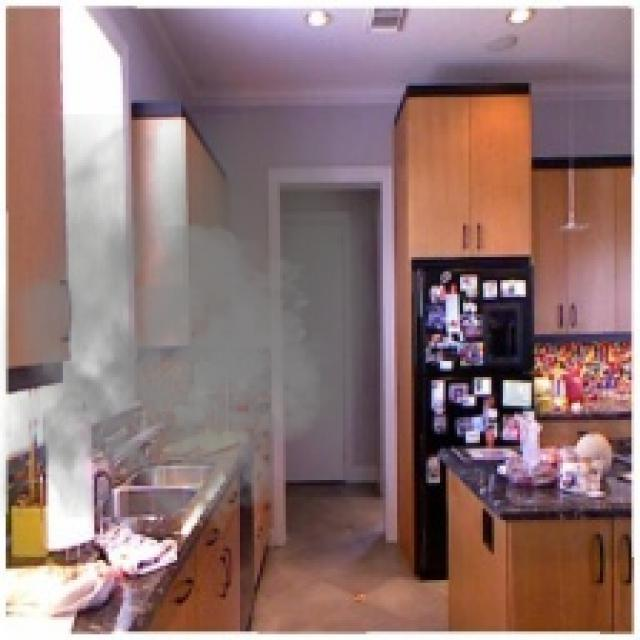Smoke: (0, 114, 383, 532)
